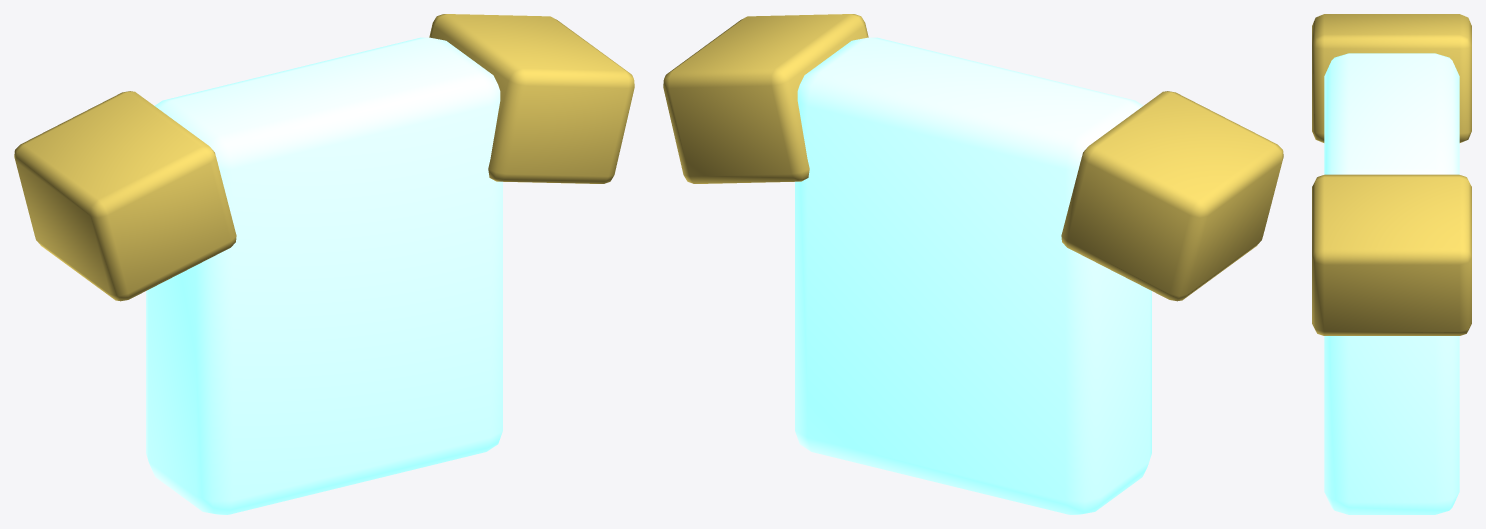
File: loot_evoshield.glb
The picture shows the model from 3 angles, left to right: view 1: azimuth 30°, elevation 25°; view 2: azimuth 150°, elevation 25°; view 3: azimuth 270°, elevation 25°; orthographic projection. The views are drawn at different scales.
Parts seen in each view (by area): view 1: chest, shldr_-1, shldr_1; view 2: chest, shldr_-1, shldr_1; view 3: chest, shldr_1, shldr_-1.
Part boxes in pixels (x1=…): chest: x1=146, y1=37, x2=502, y2=514; shldr_-1: x1=14, y1=91, x2=236, y2=301; shldr_1: x1=429, y1=14, x2=634, y2=183; chest: x1=795, y1=37, x2=1151, y2=514; shldr_-1: x1=1061, y1=91, x2=1283, y2=301; shldr_1: x1=663, y1=14, x2=868, y2=183; chest: x1=1324, y1=53, x2=1459, y2=514; shldr_1: x1=1312, y1=174, x2=1471, y2=335; shldr_-1: x1=1312, y1=14, x2=1471, y2=142.
Size of the model in its own units: 0.9278 by 0.6295 by 0.26.
